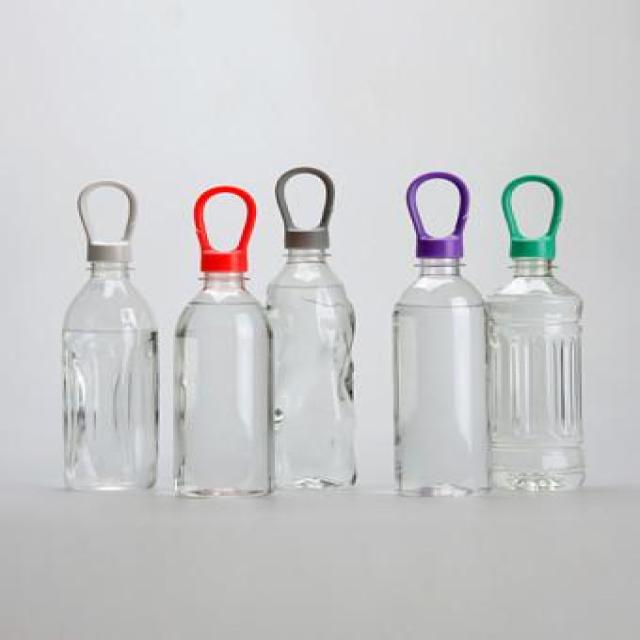bottle: (48, 179, 174, 493), (483, 177, 592, 493), (385, 174, 490, 496), (176, 185, 275, 496), (264, 169, 358, 489)
